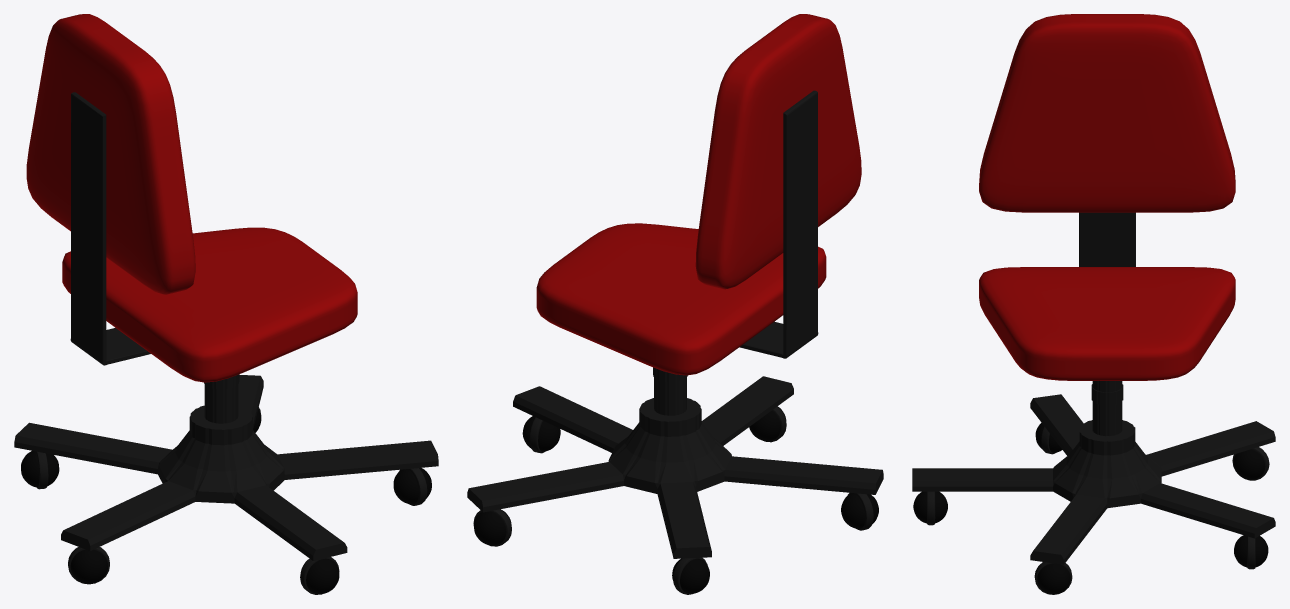
Rendered from Chair3.fbx.
3 renders of one model, left to right at view 1: azimuth 30°, elevation 25°; view 2: azimuth 150°, elevation 25°; view 3: azimuth 270°, elevation 25°, orthographic. The views are drawn at different scales.
Visible parts, largest first — view 1: pCube4, pDisc1, pCube1, pCube2, pSphere1 (×4); view 2: pCube4, pDisc1, pCube1, pCube2, pSphere1 (×5); view 3: pCube4, pCube1, pDisc1, pCube2, pSphere1 (×4).
Part boxes in pixels (x1=…): pCube4: x1=26, y1=14, x2=195, y2=294; pDisc1: x1=14, y1=374, x2=438, y2=560; pCube1: x1=62, y1=227, x2=357, y2=382; pCube2: x1=70, y1=92, x2=150, y2=365; pSphere1 (×4): x1=21, y1=451, x2=431, y2=593; pCube4: x1=695, y1=14, x2=861, y2=289; pDisc1: x1=467, y1=367, x2=883, y2=558; pCube1: x1=536, y1=223, x2=826, y2=375; pCube2: x1=739, y1=90, x2=818, y2=358; pSphere1 (×5): x1=474, y1=406, x2=878, y2=593; pCube4: x1=979, y1=14, x2=1235, y2=212; pCube1: x1=979, y1=267, x2=1235, y2=380; pDisc1: x1=912, y1=381, x2=1275, y2=564; pCube2: x1=1079, y1=212, x2=1135, y2=266; pSphere1 (×4): x1=913, y1=449, x2=1268, y2=594.
Bounding box in the file's own units: 0.8447 × 1.11 × 0.8033.
